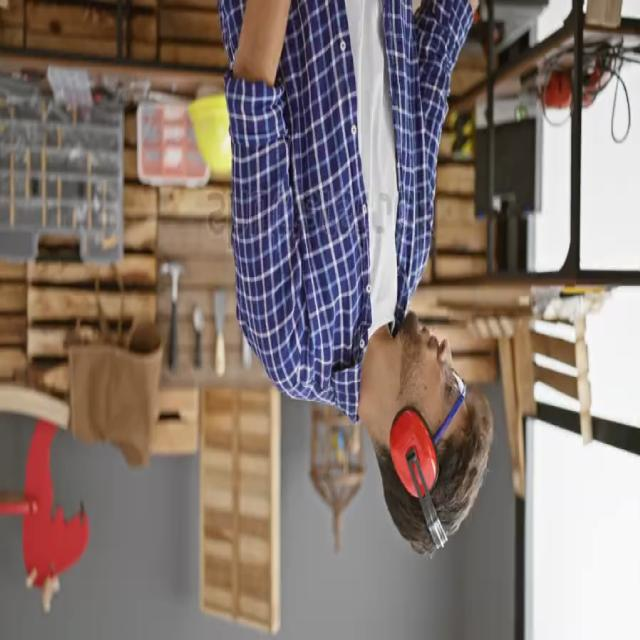goggles: (426, 368, 470, 444)
